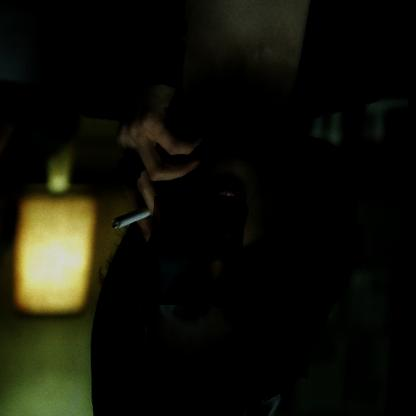smoke: (151, 196, 250, 305)
